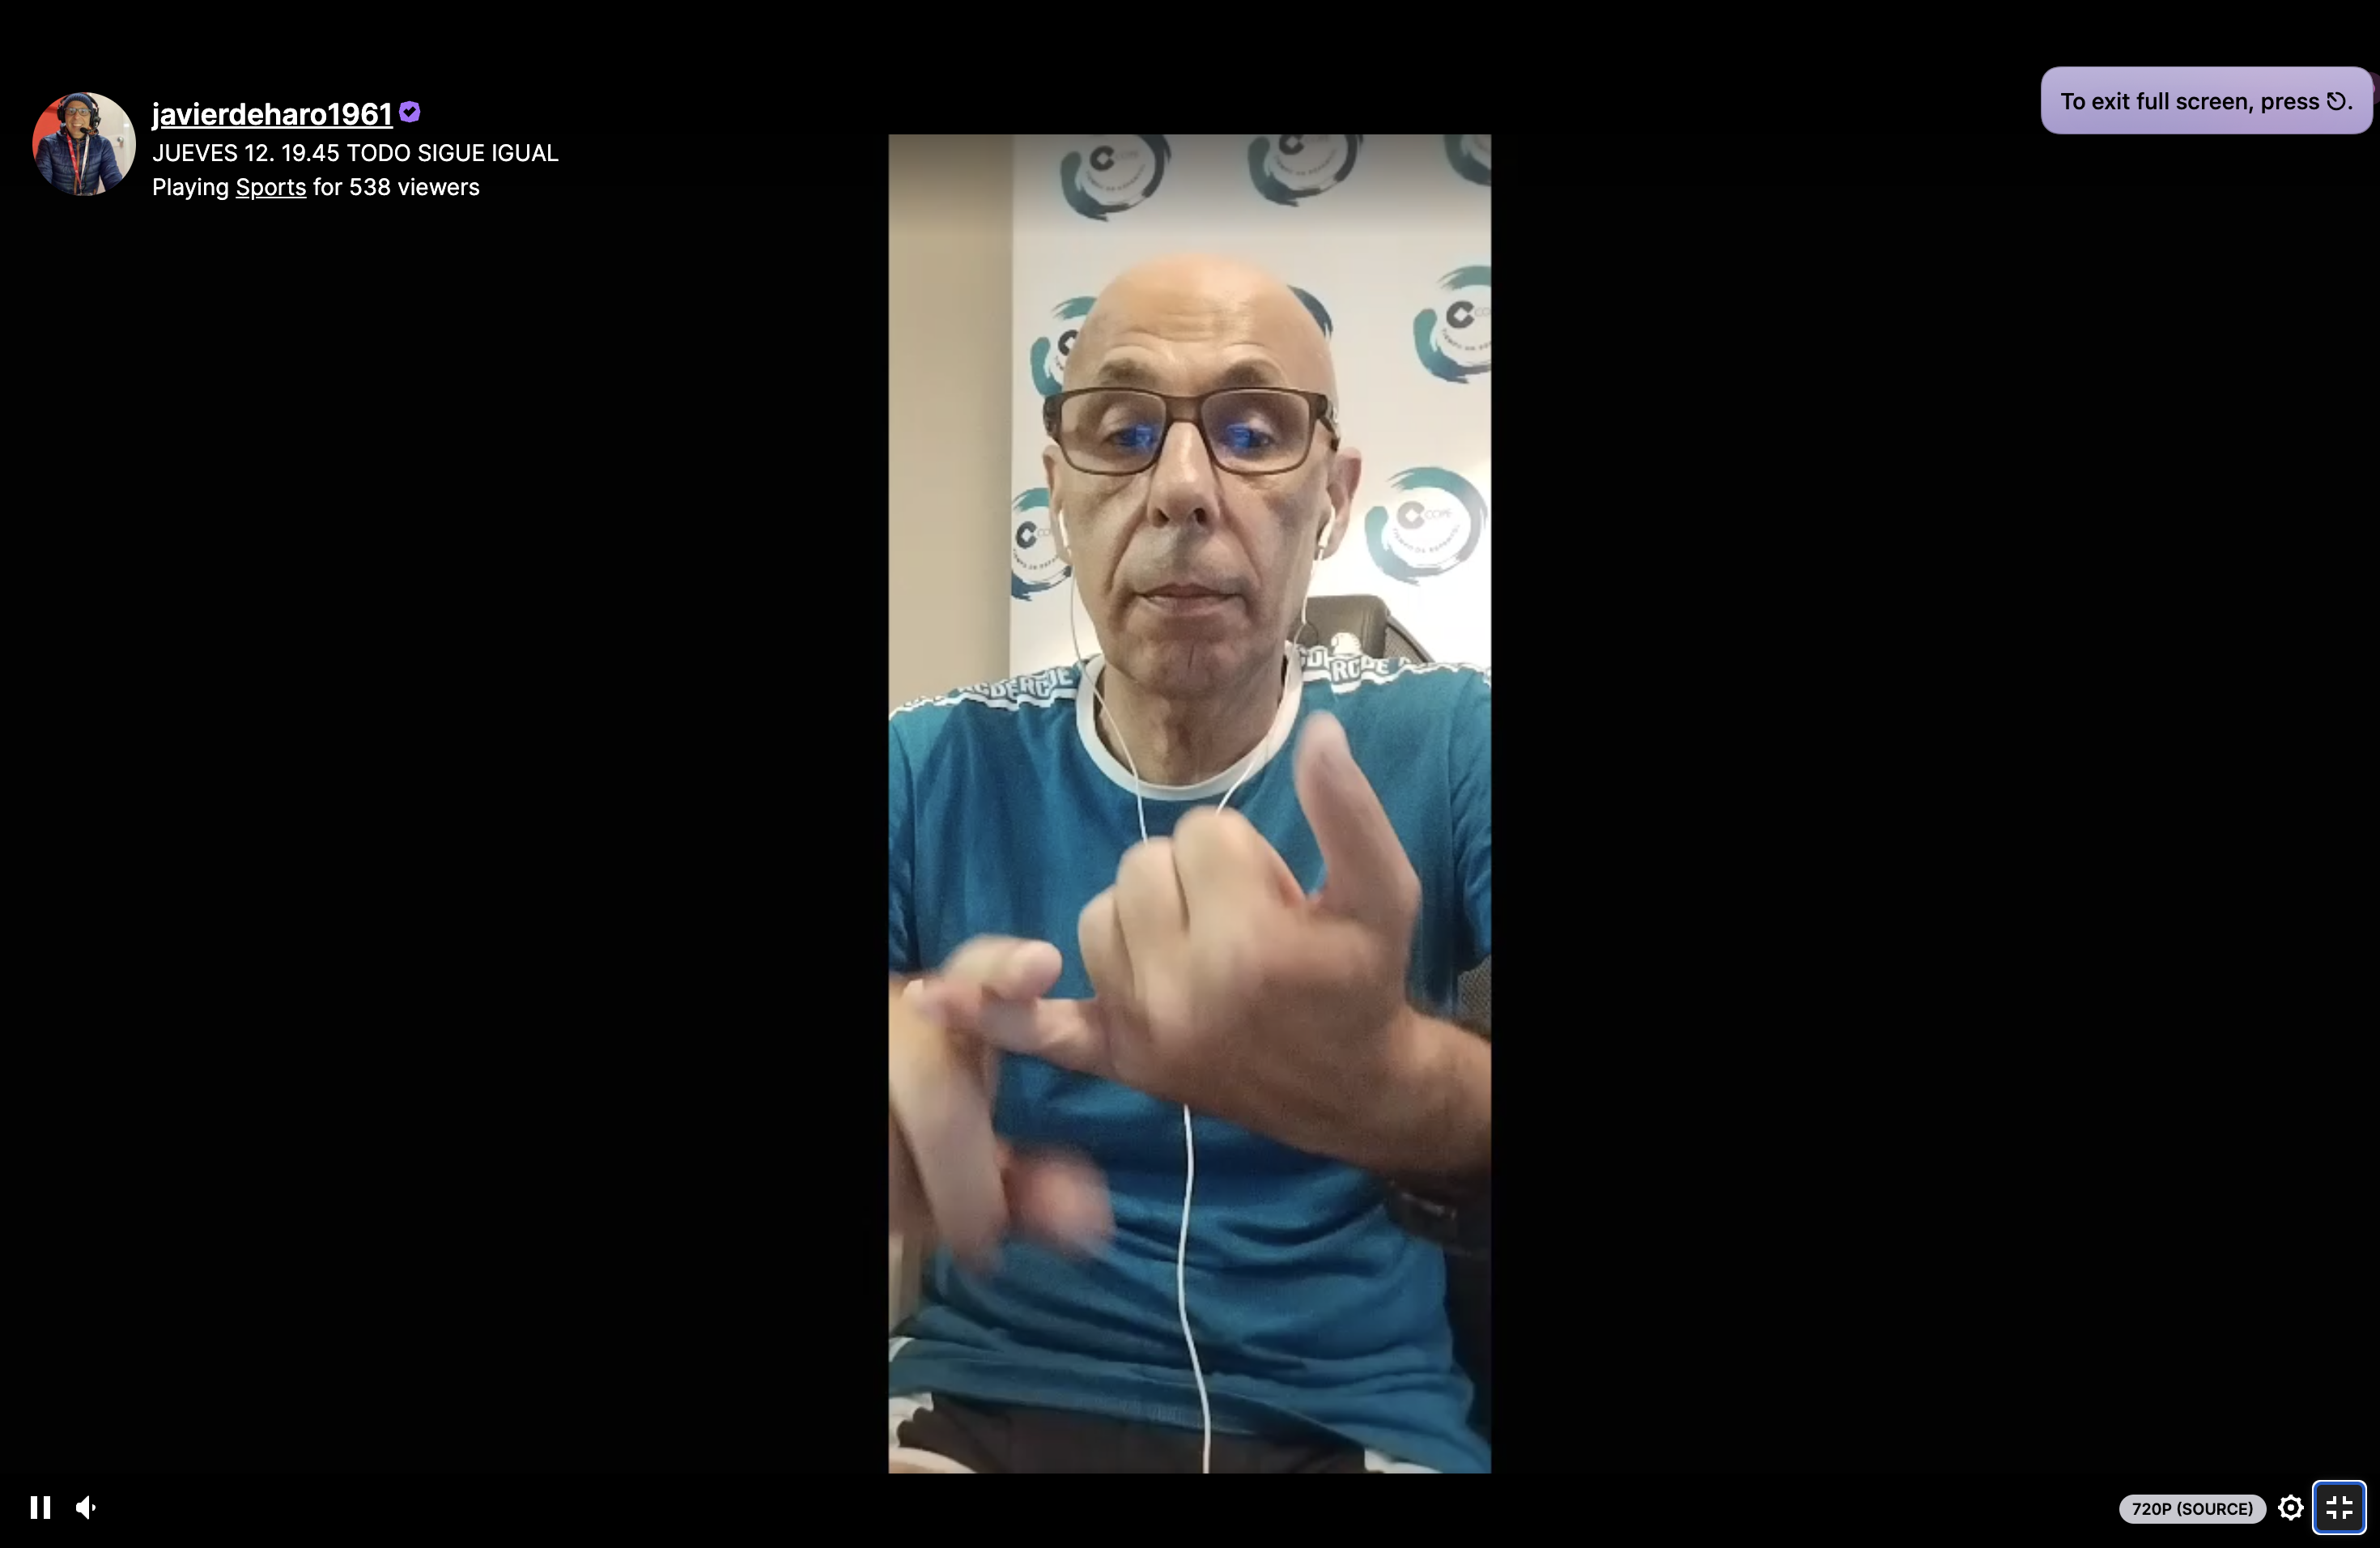person: (883, 249, 1494, 1476), (32, 91, 125, 197)
